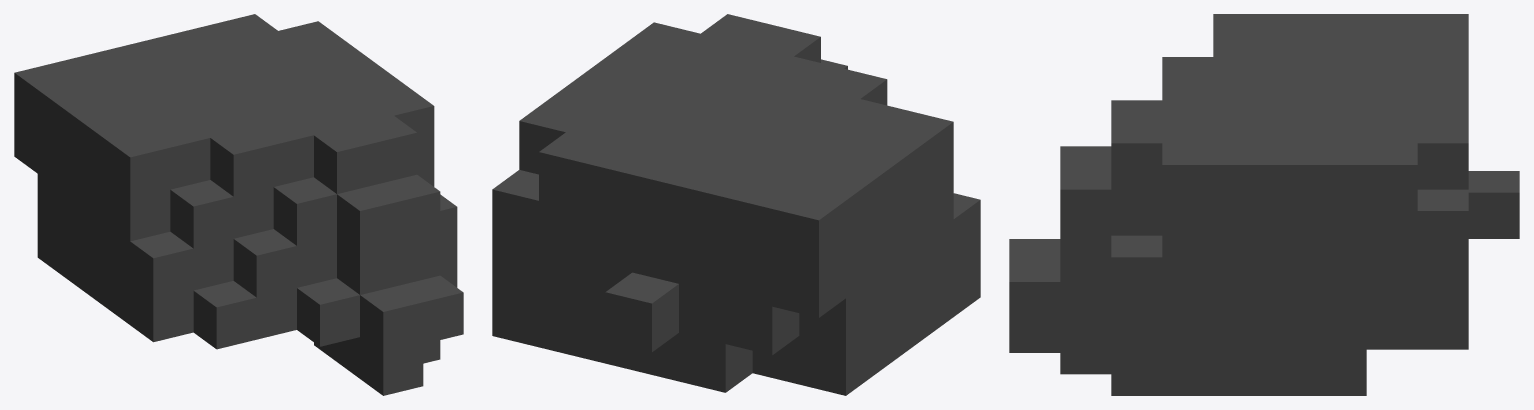
File: Rocks-2.obj
The picture shows the model from 3 angles, left to right: view 1: azimuth 30°, elevation 25°; view 2: azimuth 150°, elevation 25°; view 3: azimuth 270°, elevation 25°; orthographic projection. The views are drawn at different scales.
Bounding box in the file's own units: 0.7 × 0.5 × 1.
Materials: 1 (1 with a texture image).
